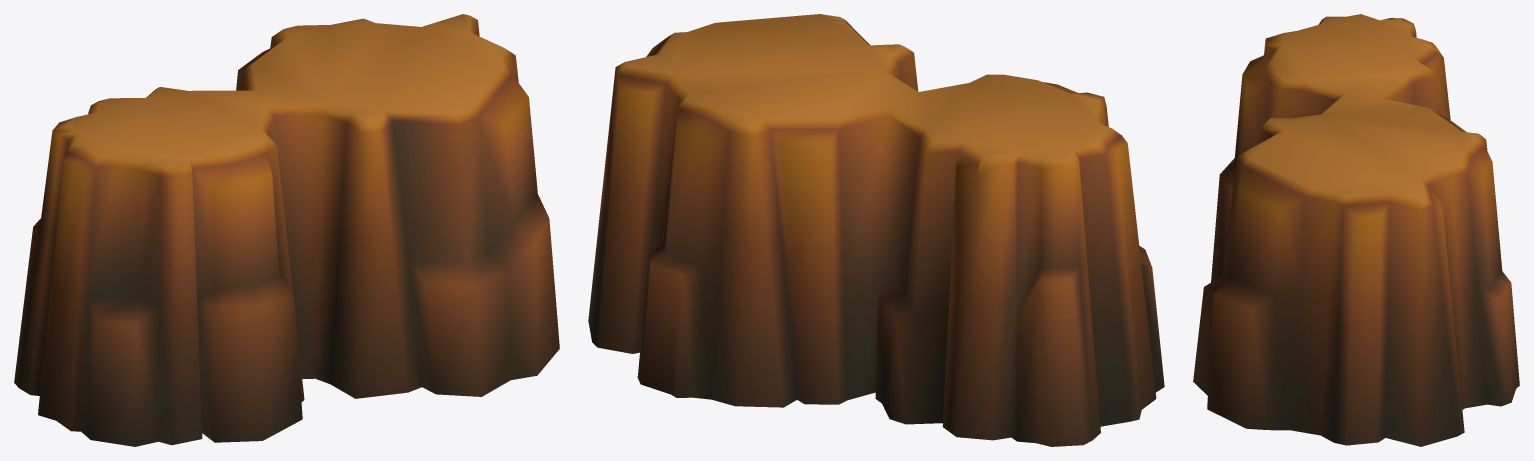
The model's file is m_Cliff01_B.fbx.
The picture shows the model from 3 angles, left to right: view 1: azimuth 30°, elevation 25°; view 2: azimuth 150°, elevation 25°; view 3: azimuth 270°, elevation 25°; orthographic projection. The views are drawn at different scales.
Parts seen in each view (by area): view 1: m_Cliff01_B; view 2: m_Cliff01_B; view 3: m_Cliff01_B.
Boxes of the visible parts, x1=… form: m_Cliff01_B: x1=14, y1=14, x2=559, y2=446; m_Cliff01_B: x1=588, y1=14, x2=1164, y2=446; m_Cliff01_B: x1=1193, y1=14, x2=1519, y2=446.
Bounding box in the file's own units: 2016 × 1000 × 1278.
